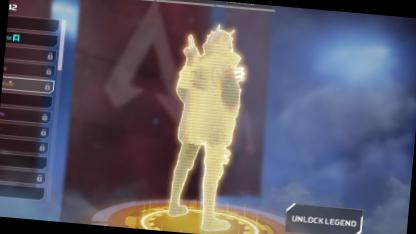Target: (164, 18, 250, 199)
